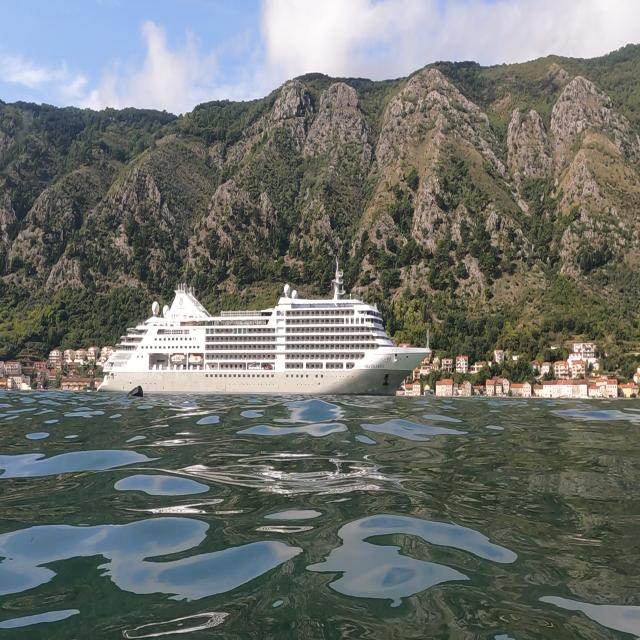boat: (96, 255, 433, 400)
buoy: (121, 376, 148, 406)
